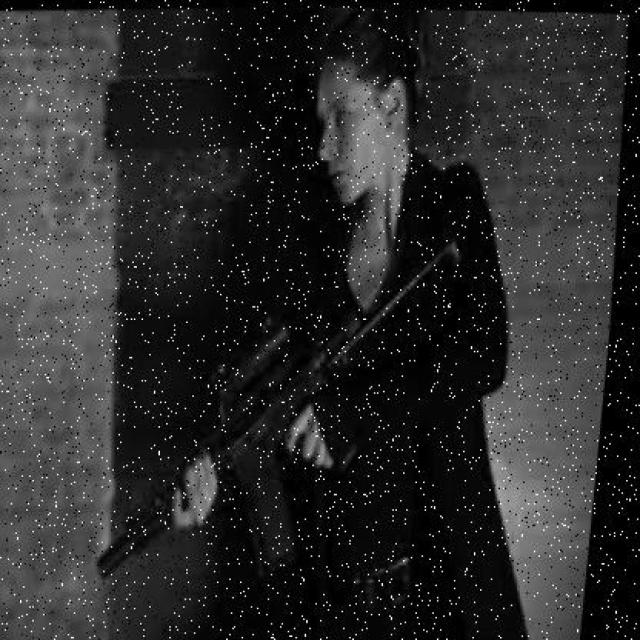weapon: (93, 239, 459, 581)
